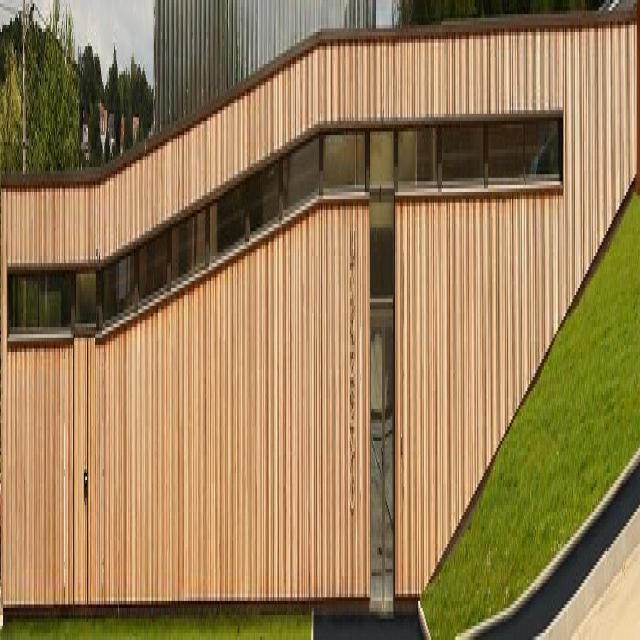door: (369, 291, 395, 617)
plant: (0, 3, 79, 173)
wall: (0, 16, 640, 624)
